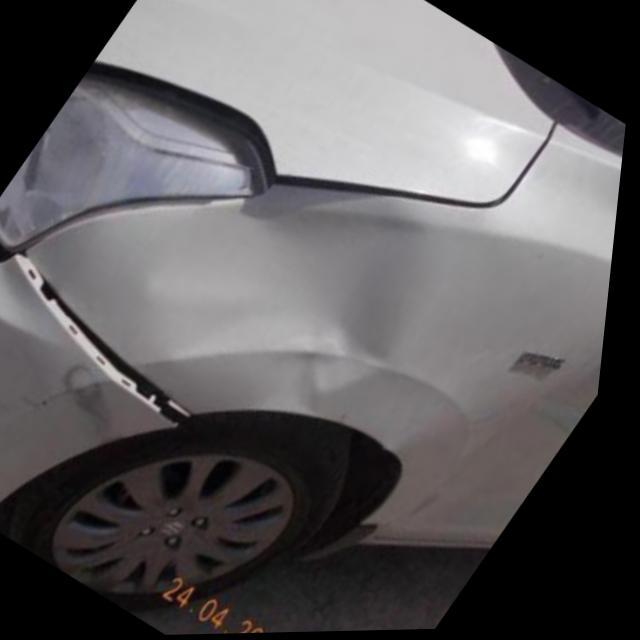dent: (157, 210, 422, 395)
dislocated part: (16, 251, 195, 428)
scratch: (71, 364, 125, 440)
